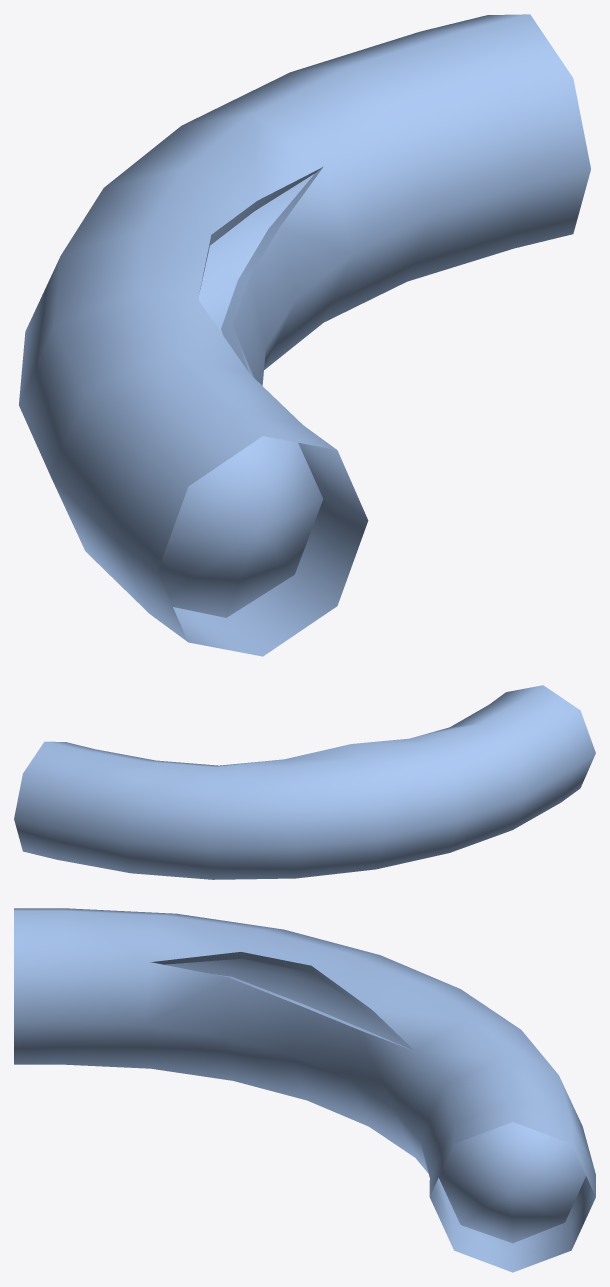
The model's file is PipeSmall_BrokenBent_02.fbx.
3 views of the same model, one above another, from view 1: azimuth 30°, elevation 25°; view 2: azimuth 150°, elevation 25°; view 3: azimuth 270°, elevation 25° (orthographic). The views are drawn at different scales.
Parts seen in each view (by area): view 1: PipeSmall_BrokenBent_02.001; view 2: PipeSmall_BrokenBent_02.001; view 3: PipeSmall_BrokenBent_02.001.
Part boxes in pixels (left/top/right/bottom): PipeSmall_BrokenBent_02.001: left=19, top=14, right=590, bottom=656; PipeSmall_BrokenBent_02.001: left=14, top=685, right=595, bottom=879; PipeSmall_BrokenBent_02.001: left=14, top=908, right=595, bottom=1272.
Size of the model in its own units: 0.35 by 0.1005 by 0.35.
